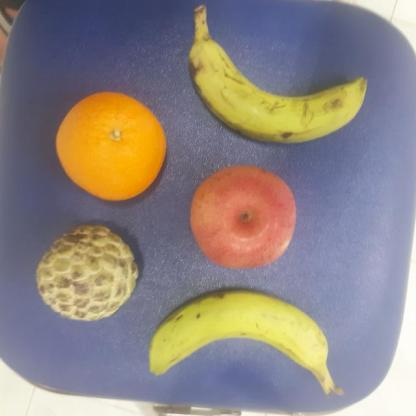annona: (35, 222, 141, 324)
apple: (188, 165, 298, 269)
banana: (185, 35, 367, 148), (143, 290, 331, 380)
orange: (55, 90, 170, 202)
